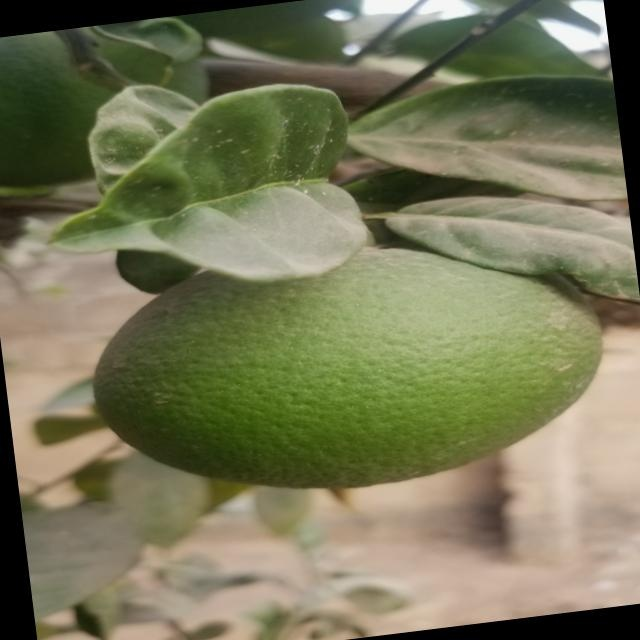agrume: (74, 210, 613, 518)
